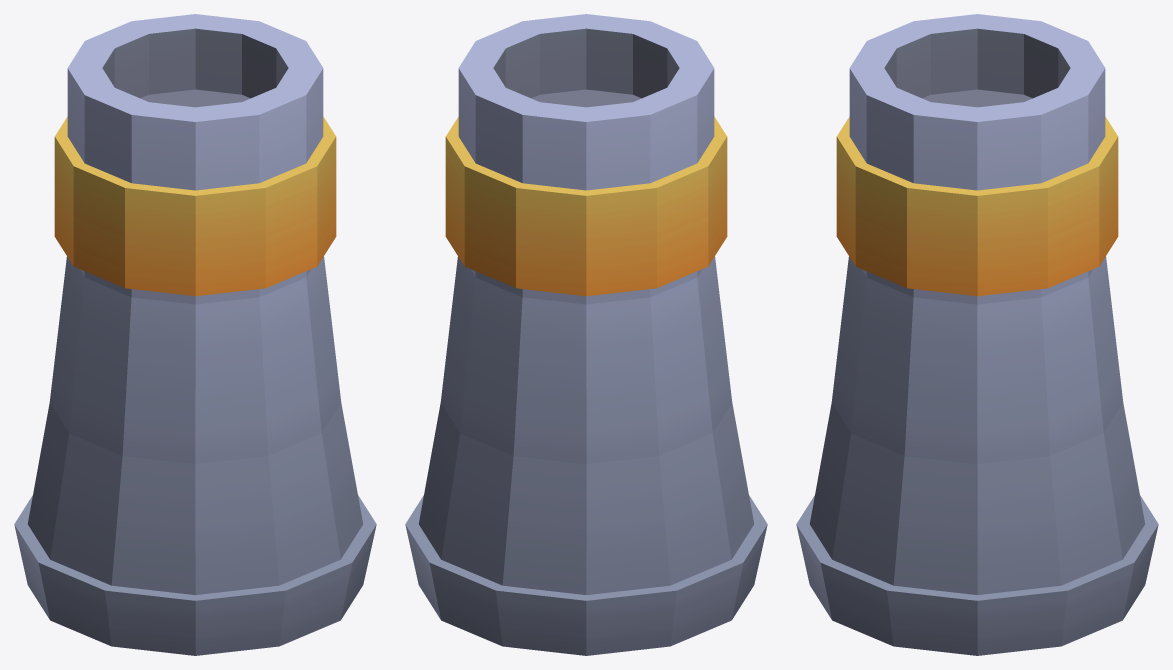
The model's file is industrial__chimney-large.glb.
3 renders of one model, left to right at view 1: azimuth 30°, elevation 25°; view 2: azimuth 150°, elevation 25°; view 3: azimuth 270°, elevation 25°, orthographic.
Parts seen in each view (by area): view 1: chimney-large; view 2: chimney-large; view 3: chimney-large.
Boxes of the visible parts, x1,y1,x2,y2 form: chimney-large: [14, 14, 376, 655]; chimney-large: [405, 14, 767, 655]; chimney-large: [796, 14, 1158, 655].
Size of the model in its own units: 1.08 by 1.7 by 1.08.
1 material, 1 textured.
